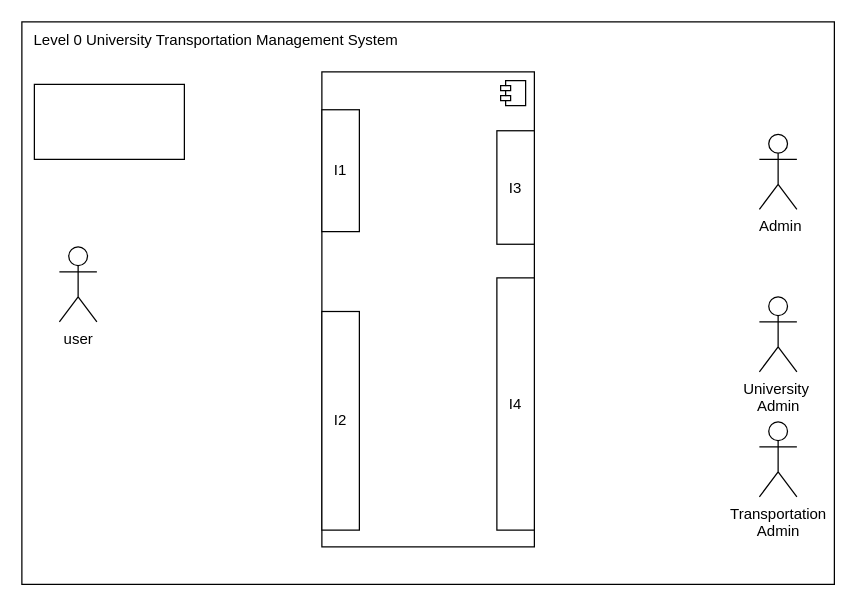
The diagram is 856 pixels wide and 606 high, and some of its shapes have lost their labels. The shapes that lost their labels are listed below. From the top down, each one's box as (x1, y1, x2, y2) in pixels, then its label:
(33, 83, 184, 159): <<Bank Repo System>>
(321, 71, 534, 547): University Transportation Management System
